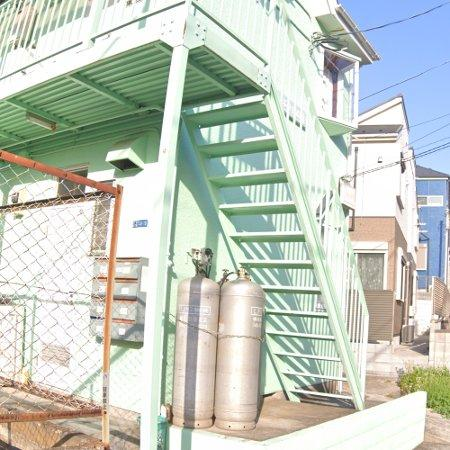stairs: (185, 98, 364, 410)
